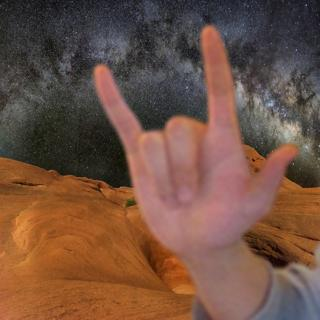ILY: (88, 20, 303, 257)
